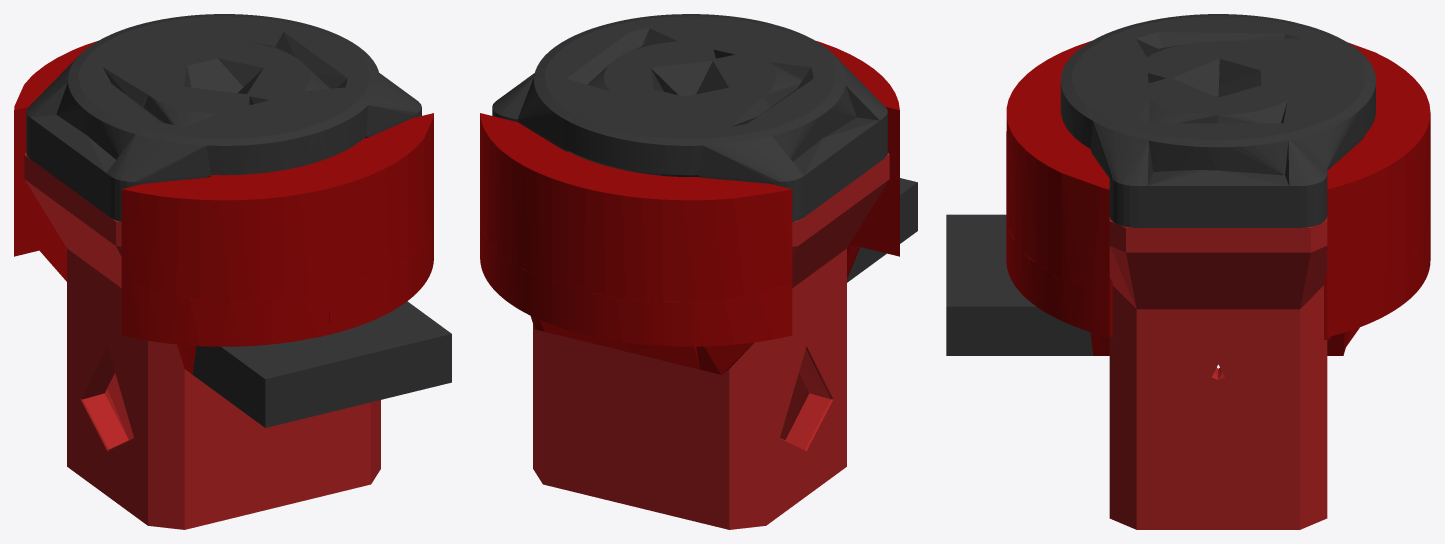
The model's file is RARM_LINK1_mesh.dae.
The picture shows the model from 3 angles, left to right: view 1: azimuth 30°, elevation 25°; view 2: azimuth 150°, elevation 25°; view 3: azimuth 270°, elevation 25°; orthographic projection.
Parts seen in each view (by area): view 1: RARM_LINK1 (×5); view 2: RARM_LINK1 (×5); view 3: RARM_LINK1 (×5).
Part boxes in pixels (bbox=[...]): RARM_LINK1 (×5): bbox=[14, 14, 451, 529]; RARM_LINK1 (×5): bbox=[480, 14, 917, 529]; RARM_LINK1 (×5): bbox=[946, 14, 1430, 529].
Size of the model in its own units: 0.067 by 0.08 by 0.089.
